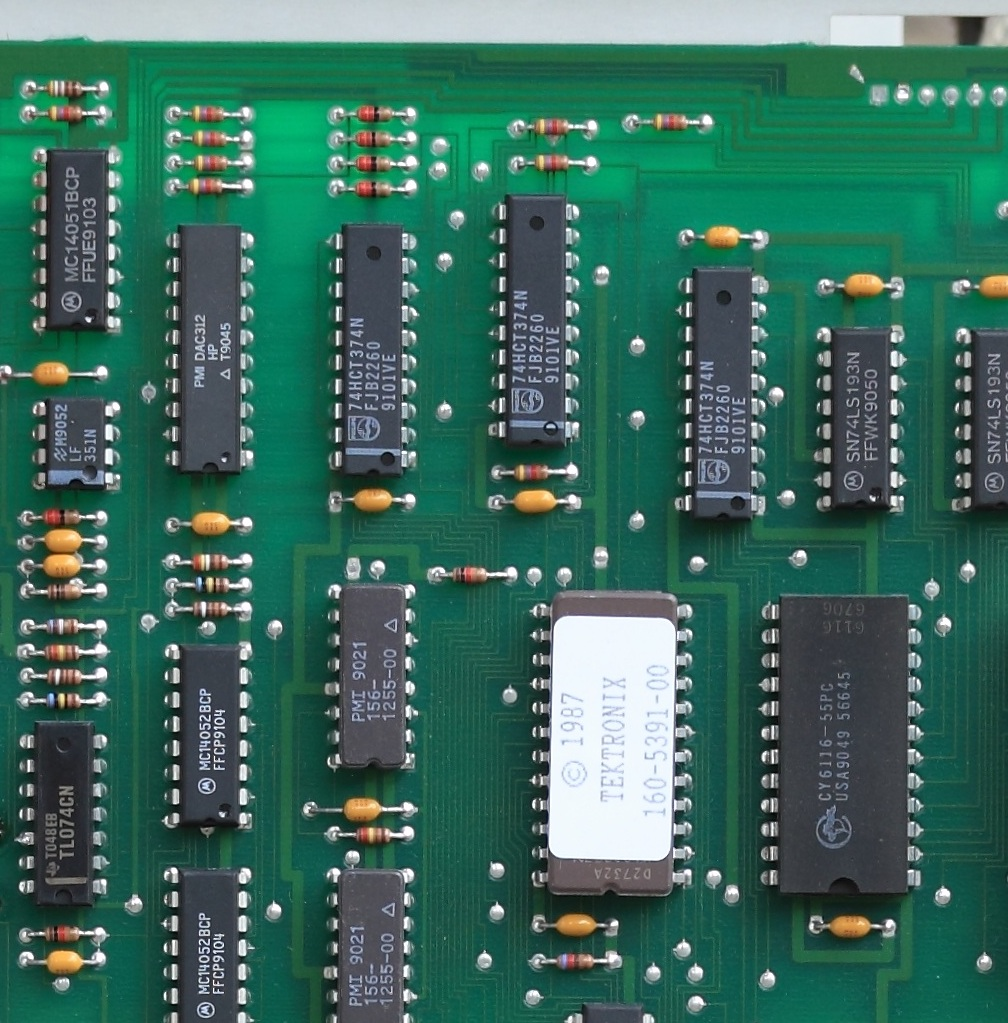Resistor: (446, 559, 499, 588), (37, 665, 92, 689), (347, 822, 398, 847), (35, 640, 88, 664), (182, 598, 237, 620), (184, 127, 232, 152), (551, 951, 601, 975), (39, 101, 91, 124), (527, 115, 576, 139), (32, 507, 88, 528), (38, 920, 85, 945), (39, 690, 90, 713), (181, 174, 234, 196), (41, 77, 91, 100), (645, 111, 695, 134), (37, 615, 88, 637), (185, 550, 233, 573), (184, 152, 234, 174), (526, 152, 576, 173), (185, 103, 232, 125), (37, 581, 86, 602), (185, 574, 234, 595), (347, 129, 398, 149), (506, 463, 557, 482), (351, 104, 396, 125), (351, 154, 398, 174), (346, 181, 398, 199)
